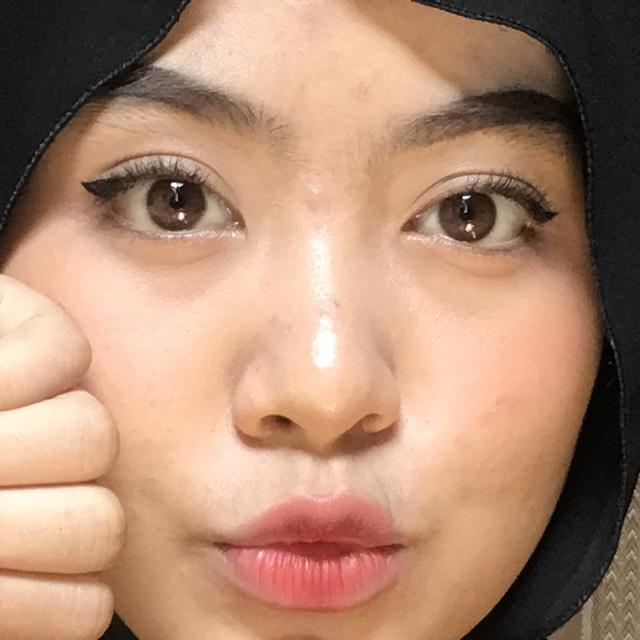sedih: (0, 126, 355, 640)
